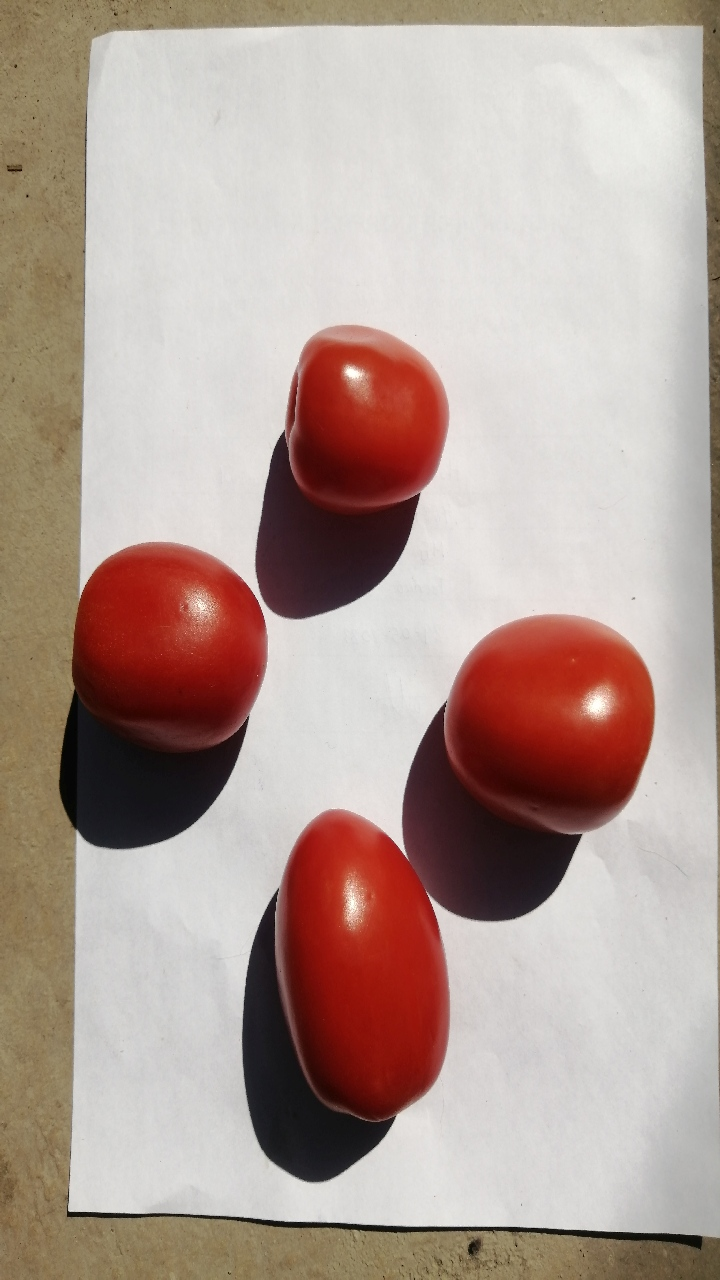tomateRojo: (235, 800, 474, 1131), (424, 594, 666, 846), (246, 303, 477, 540), (63, 520, 263, 774)
